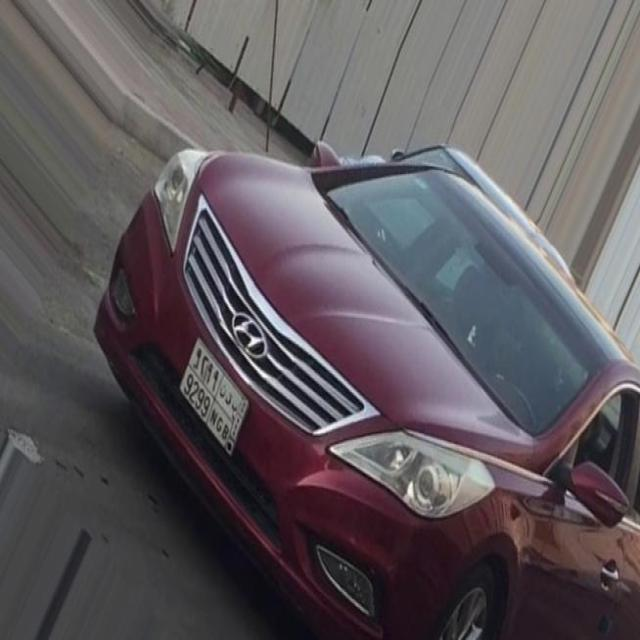Car-plate: (167, 322, 263, 474)
